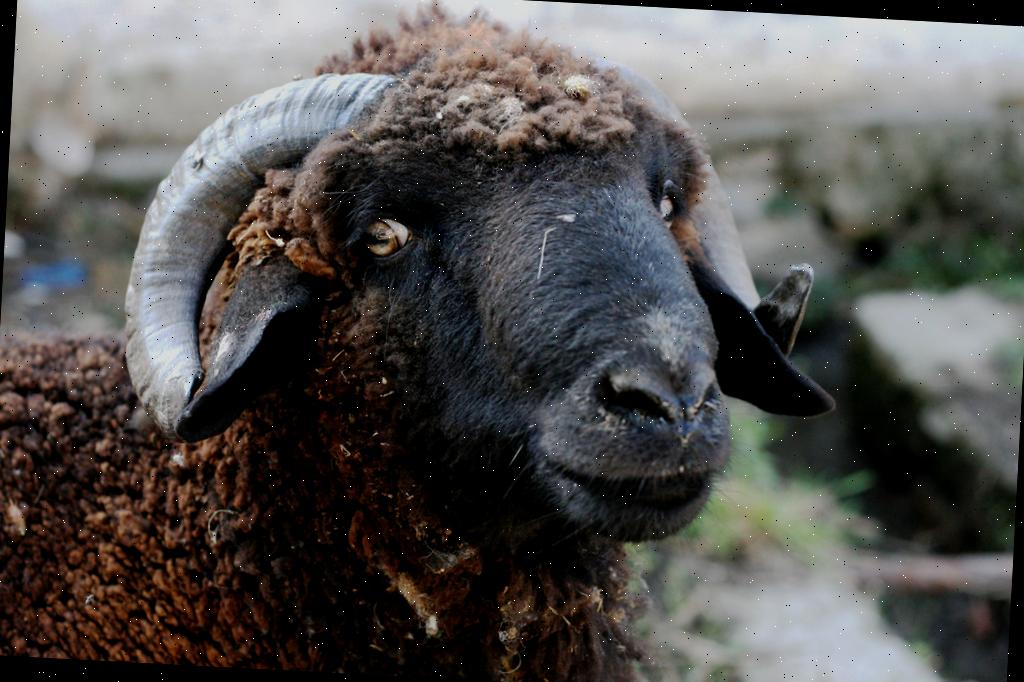Sheep: (0, 0, 859, 682)
